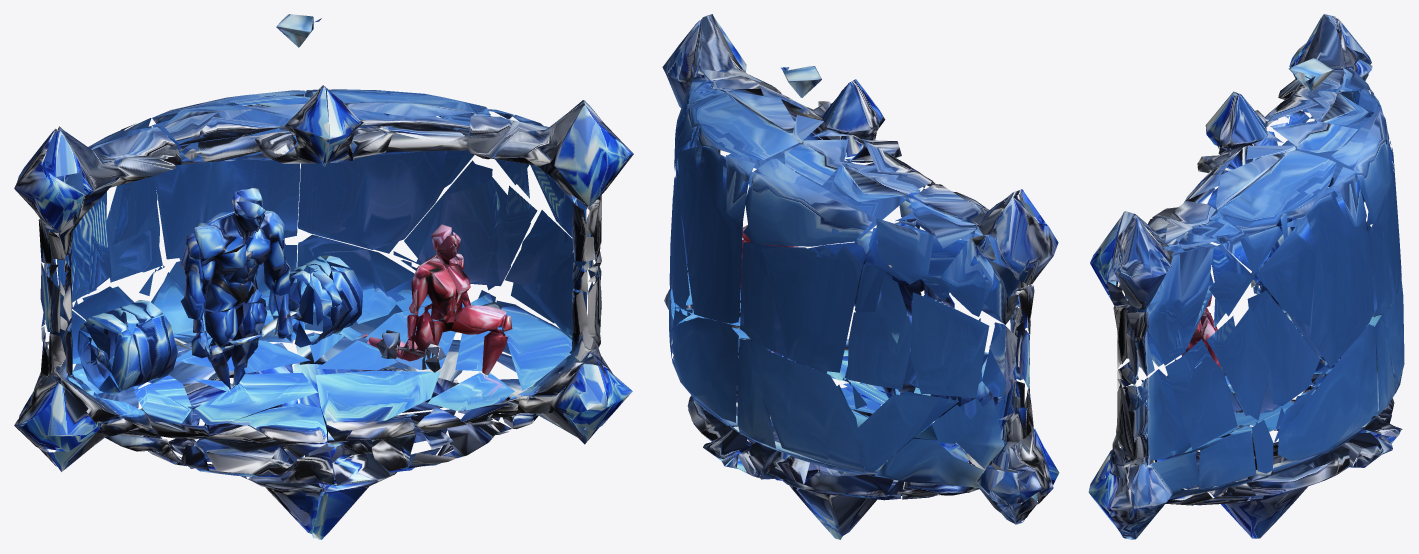
File: MAH_GYM_PROJECTOR_BEACON_L1.glb
3 renders of one model, left to right at view 1: azimuth 30°, elevation 25°; view 2: azimuth 150°, elevation 25°; view 3: azimuth 270°, elevation 25°, orthographic. The views are drawn at different scales.
Visible parts, largest first — view 1: MAH_GYM_PROJECTOR_BEACON_L1; view 2: MAH_GYM_PROJECTOR_BEACON_L1; view 3: MAH_GYM_PROJECTOR_BEACON_L1.
Part boxes in pixels (left/top/right/bottom): MAH_GYM_PROJECTOR_BEACON_L1: left=14, top=14, right=633, bottom=539; MAH_GYM_PROJECTOR_BEACON_L1: left=662, top=14, right=1059, bottom=539; MAH_GYM_PROJECTOR_BEACON_L1: left=1088, top=14, right=1404, bottom=539.
Bounding box in the file's own units: 0.9801 × 0.9242 × 0.5577.
1 material, 1 textured.
